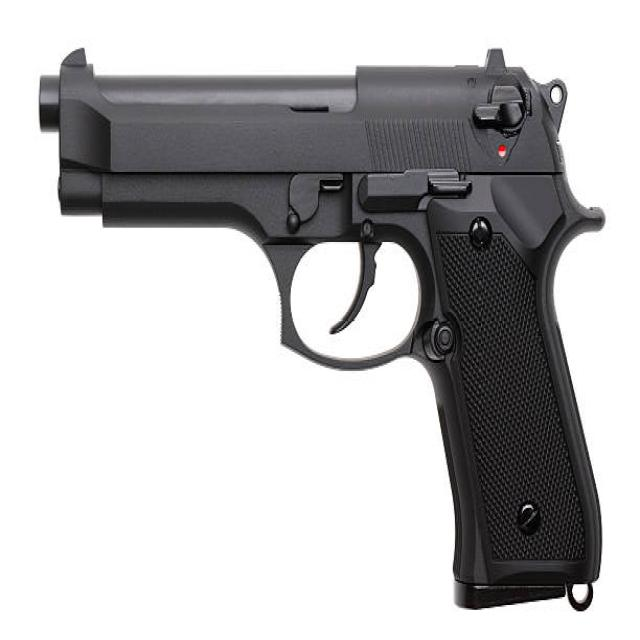pistol: (28, 38, 610, 620)
